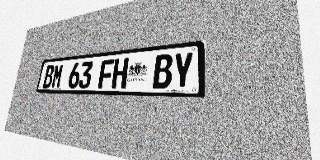3: (78, 61, 93, 88)
6: (67, 62, 82, 88)
B: (152, 53, 173, 89), (42, 65, 55, 88)
F: (98, 59, 114, 88)
H: (111, 58, 129, 88)
M: (51, 64, 64, 88)
Y: (172, 51, 194, 89)
